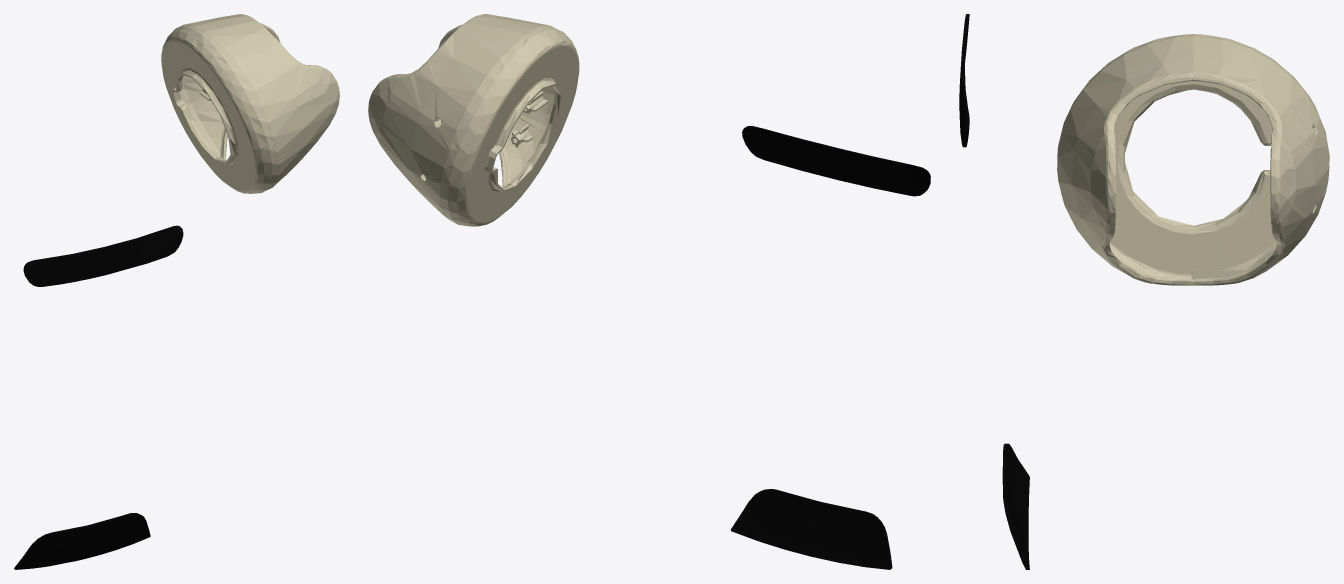
Rendered from walker_left_shoulder_pitch.dae.
3 renders of one model, left to right at view 1: azimuth 30°, elevation 25°; view 2: azimuth 150°, elevation 25°; view 3: azimuth 270°, elevation 25°, orthographic. The views are drawn at different scales.
Parts seen in each view (by area): view 1: Shape_IndexedFaceSet_179, Shape_IndexedFaceSet_232; view 2: Shape_IndexedFaceSet_179, Shape_IndexedFaceSet_232; view 3: Shape_IndexedFaceSet_179, Shape_IndexedFaceSet_232.
Boxes of the visible parts, x1,y1,x2,y2 form: Shape_IndexedFaceSet_179: [161, 14, 339, 193]; Shape_IndexedFaceSet_232: [14, 225, 183, 569]; Shape_IndexedFaceSet_179: [368, 14, 579, 226]; Shape_IndexedFaceSet_232: [731, 126, 930, 569]; Shape_IndexedFaceSet_179: [1057, 34, 1329, 285]; Shape_IndexedFaceSet_232: [959, 14, 1029, 569].
Bounding box in the file's own units: 0.3479 × 0.216 × 0.3994.
